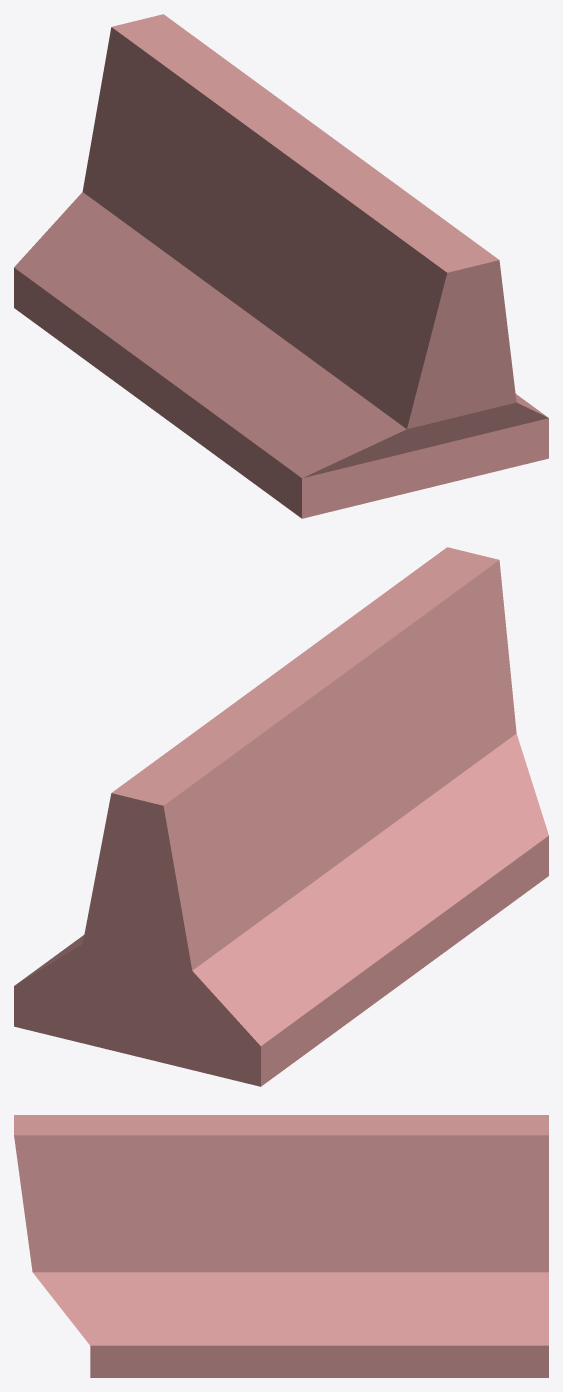
Rendered from Fence_A_C_COL.fbx.
3 renders of one model, top to bottom at view 1: azimuth 30°, elevation 25°; view 2: azimuth 150°, elevation 25°; view 3: azimuth 270°, elevation 25°, orthographic. The views are drawn at different scales.
Visible parts, largest first — view 1: Fence_A_C_COL; view 2: Fence_A_C_COL; view 3: Fence_A_C_COL.
Boxes of the visible parts, x1=… form: Fence_A_C_COL: x1=14, y1=14, x2=548, y2=518; Fence_A_C_COL: x1=14, y1=547, x2=548, y2=1086; Fence_A_C_COL: x1=14, y1=1115, x2=548, y2=1377.
Size of the model in its own units: 80 by 79.67 by 189.
